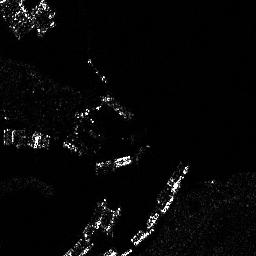ship: (158, 165, 189, 203), (2, 128, 51, 151), (95, 153, 132, 174), (101, 94, 132, 119), (87, 58, 107, 83), (147, 211, 160, 229)
